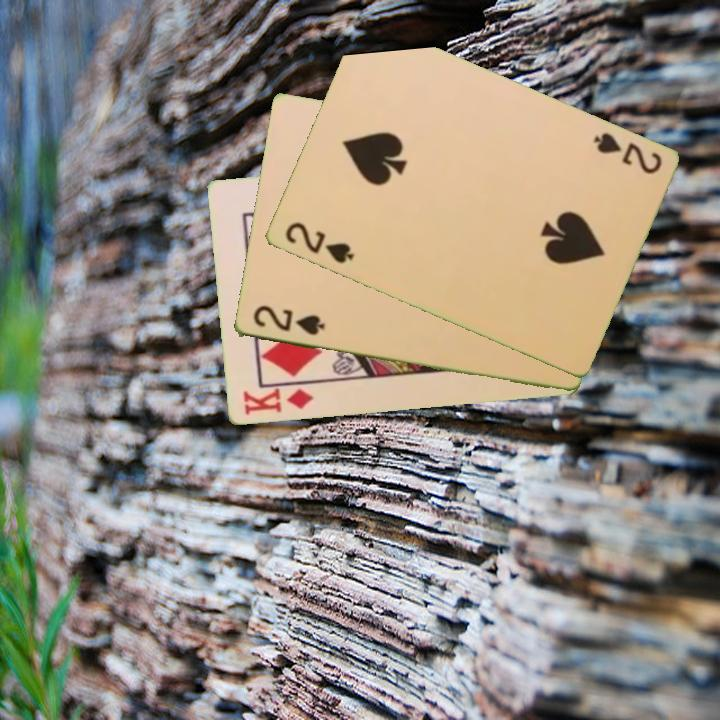2s: (281, 218, 357, 267), (589, 128, 665, 177), (249, 302, 327, 339)
Kd: (239, 384, 316, 419)
